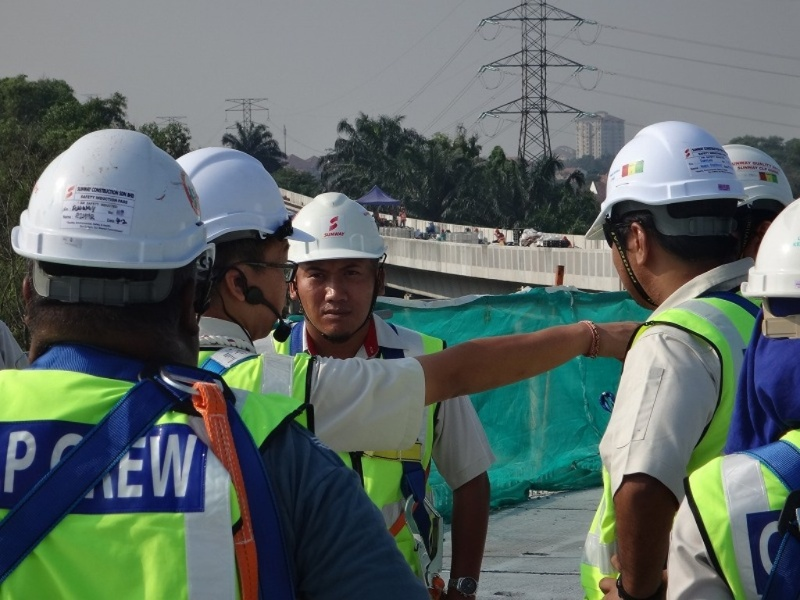baret: (9, 128, 218, 283), (585, 124, 747, 235), (288, 191, 390, 268)
